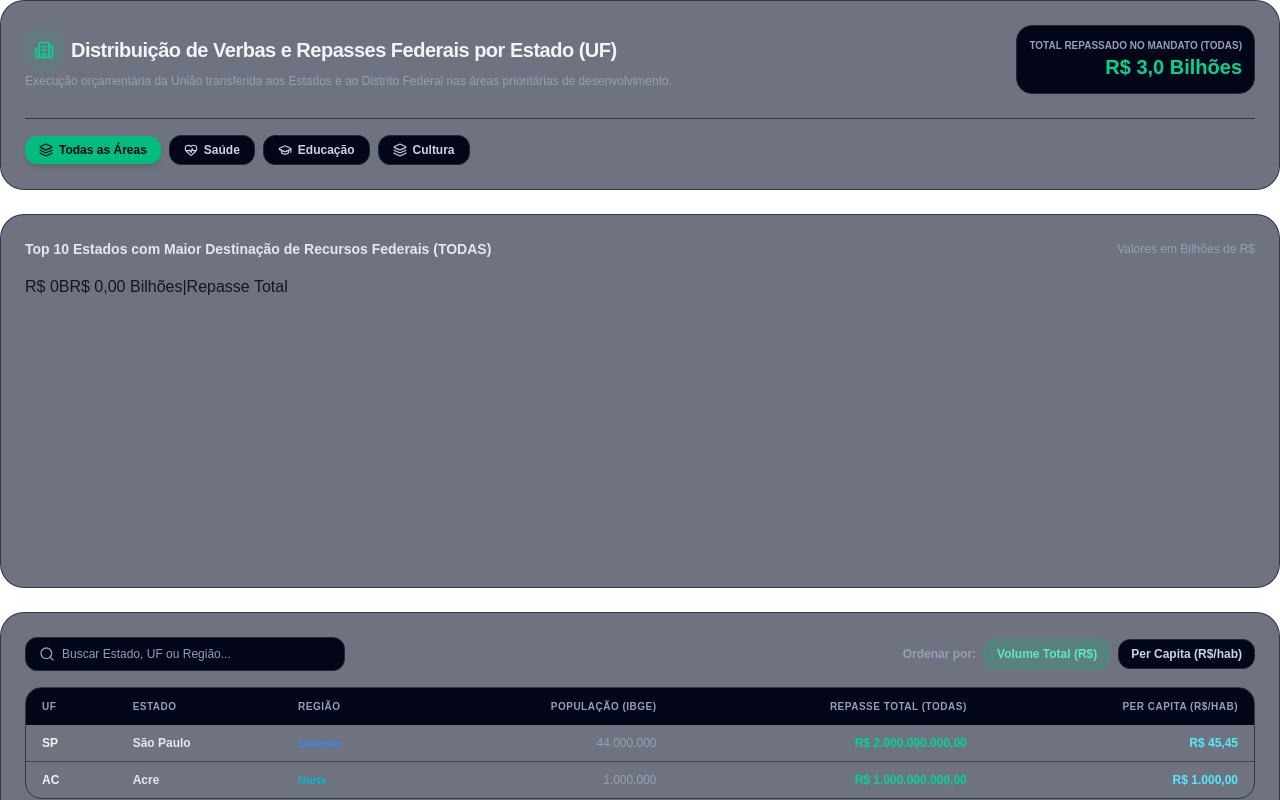
Test case: FederalTransfersPanel › filtra por texto sem refazer requisição
Expected: the text "Acre" is shown, [117,762,282,798]
Type "norte" into the field labelled "Buscar Estado, UF ou Região..." at x=185, y=654, box [25,637,345,671]
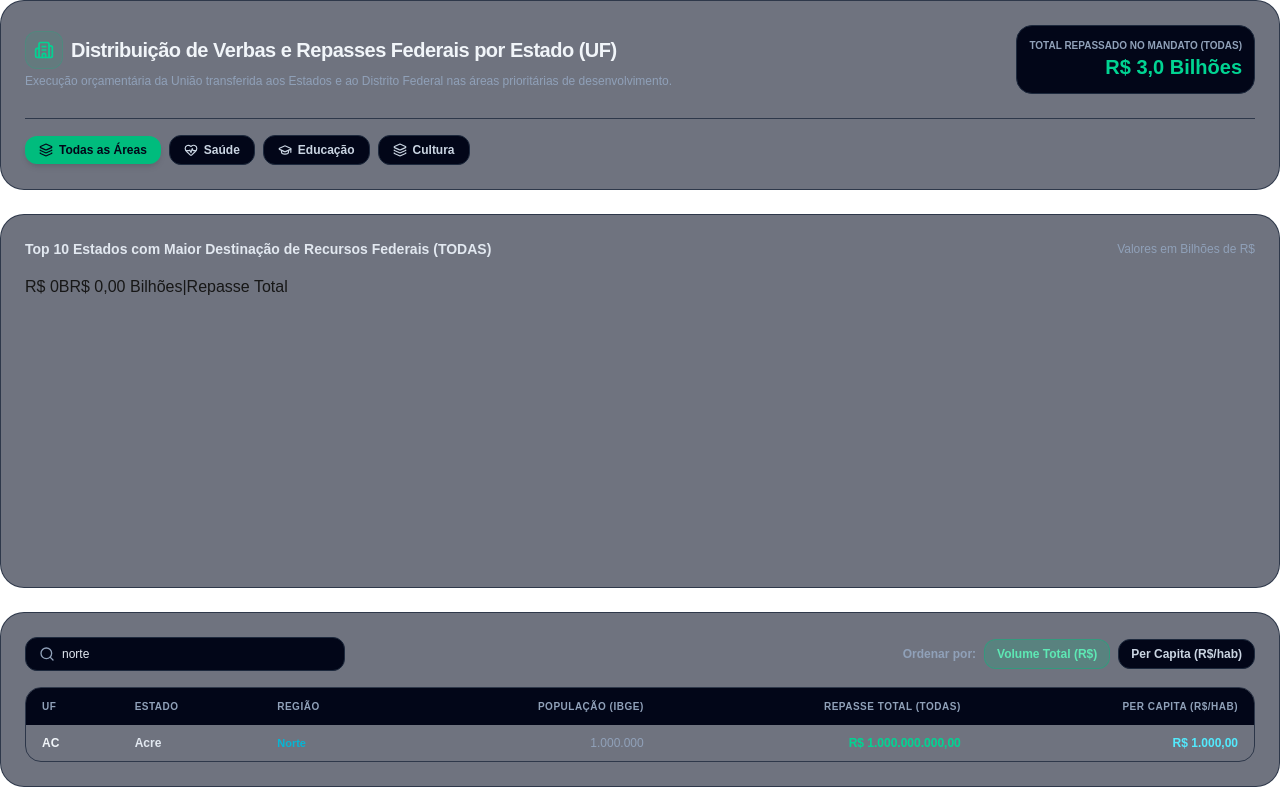
Expected: the text "Acre" is shown, [119,725,261,761]
Result: the text "São Paulo" is gone
